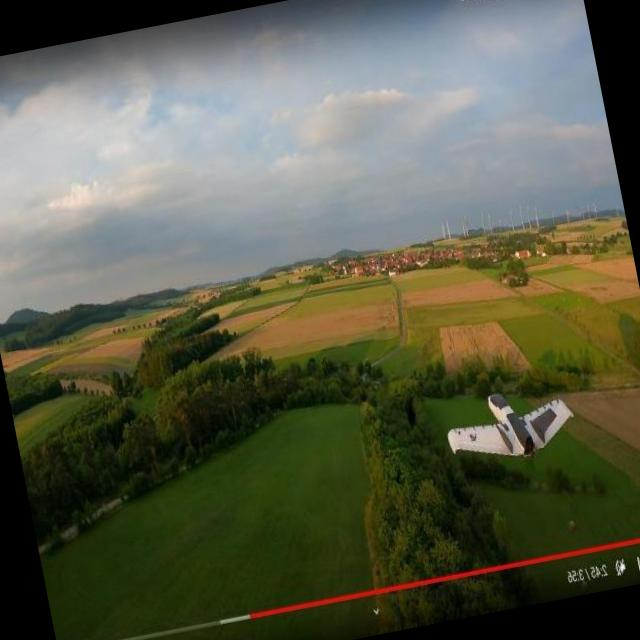UAV: (431, 343, 569, 480)
